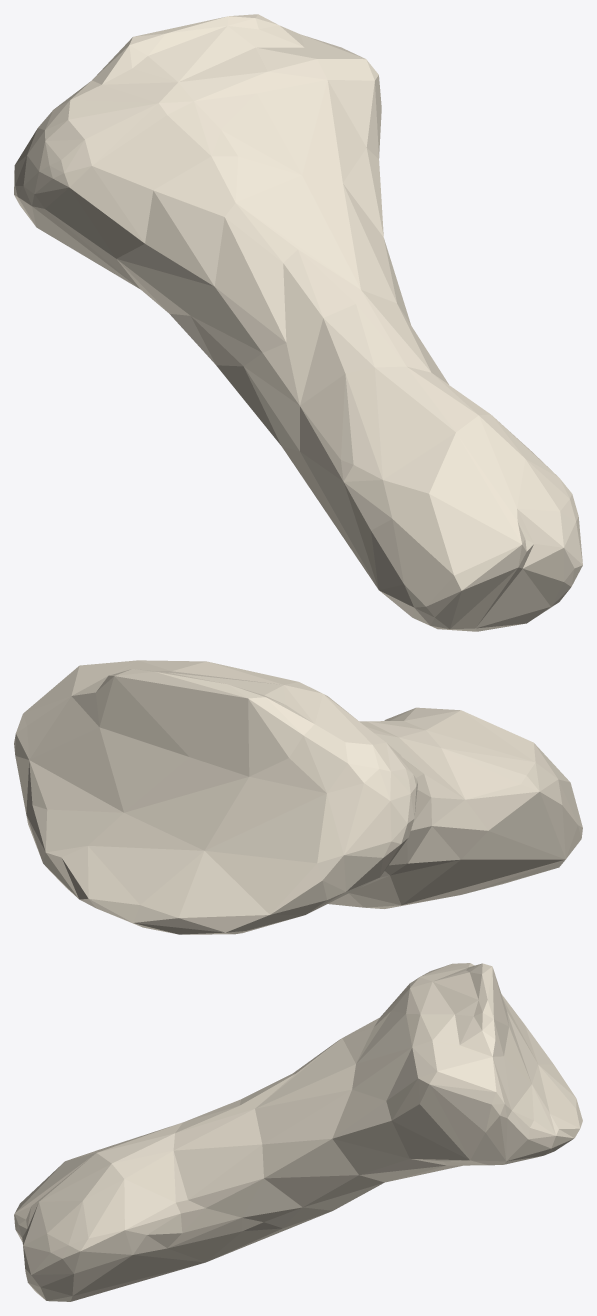
File: left_ring_distal_phalanx.glb
The picture shows the model from 3 angles, top to bottom: view 1: azimuth 30°, elevation 25°; view 2: azimuth 150°, elevation 25°; view 3: azimuth 270°, elevation 25°; orthographic projection. The views are drawn at different scales.
Parts seen in each view (by area): view 1: left_ring_distal_phalanx; view 2: left_ring_distal_phalanx; view 3: left_ring_distal_phalanx.
Boxes of the visible parts, x1=… form: left_ring_distal_phalanx: x1=14, y1=14, x2=582, y2=631; left_ring_distal_phalanx: x1=14, y1=660, x2=582, y2=934; left_ring_distal_phalanx: x1=14, y1=963, x2=582, y2=1301.
Size of the model in its own units: 0.00844 by 0.00927 by 0.0158.
